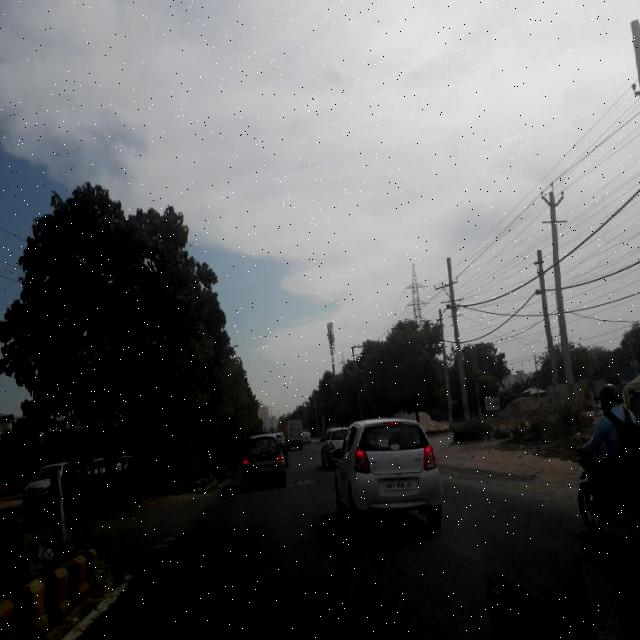D20: (107, 506, 574, 626)
